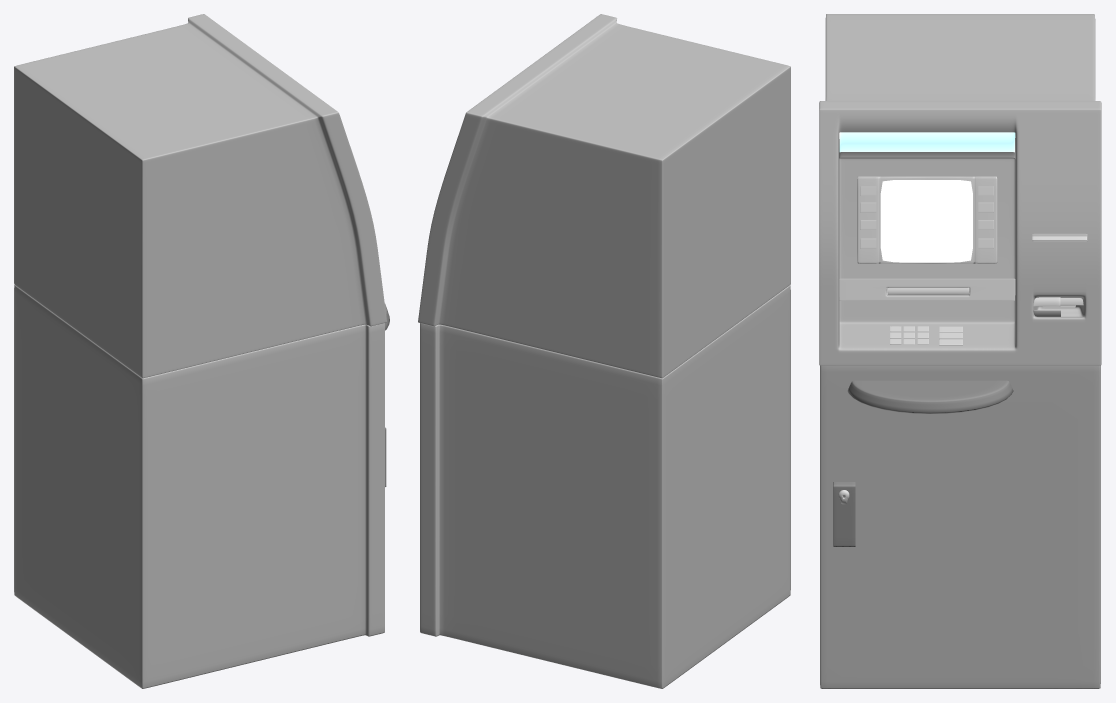
File: atm.glb
3 renders of one model, left to right at view 1: azimuth 30°, elevation 25°; view 2: azimuth 150°, elevation 25°; view 3: azimuth 270°, elevation 25°, orthographic. The views are drawn at different scales.
Visible parts, largest first — view 1: Cube, Cube.001; view 2: Cube, Cube.001; view 3: Cube, Cube.001, Cube.003, Cylinder, Cube.004, Cube.006, Cube.008, Cube.005, Cube.007, Cylinder.001.
Part boxes in pixels (box(x1,y1,x2,y2)): Cube: box(14, 285, 384, 688); Cube.001: box(14, 14, 386, 378); Cube: box(420, 285, 790, 688); Cube.001: box(418, 14, 790, 378); Cube: box(820, 305, 1100, 688); Cube.001: box(819, 14, 1101, 365); Cube.003: box(857, 176, 997, 263); Cylinder: box(847, 380, 1013, 413); Cube.004: box(839, 278, 1015, 300); Cube.006: box(833, 482, 855, 546); Cube.008: box(860, 186, 993, 248); Cube.005: box(890, 326, 962, 345); Cube.007: box(1032, 233, 1087, 241); Cylinder.001: box(1033, 297, 1060, 316).
Size of the model in its own units: 0.8863 by 1.6 by 0.7334.
